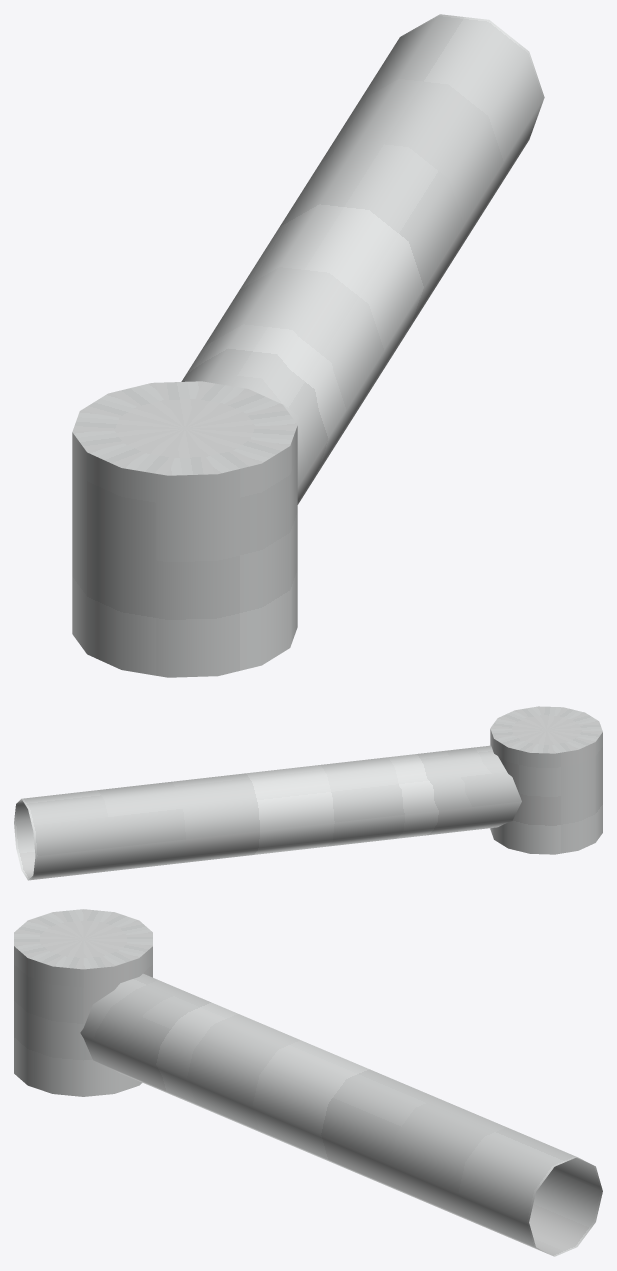
File: trusssignalarm_diagonal5_c0_pedestal.obj
3 views of the same model, one above another, from view 1: azimuth 30°, elevation 25°; view 2: azimuth 150°, elevation 25°; view 3: azimuth 270°, elevation 25° (orthographic). The views are drawn at different scales.
Parts seen in each view (by area): view 1: trusssignalarm_diagonal5_c0_pedestal; view 2: trusssignalarm_diagonal5_c0_pedestal; view 3: trusssignalarm_diagonal5_c0_pedestal.
Boxes of the visible parts, bbox=[...] form: trusssignalarm_diagonal5_c0_pedestal: bbox=[72, 14, 544, 677]; trusssignalarm_diagonal5_c0_pedestal: bbox=[14, 706, 602, 880]; trusssignalarm_diagonal5_c0_pedestal: bbox=[14, 909, 602, 1256].
Size of the model in its own units: 1.84 by 0.4375 by 1.83.
